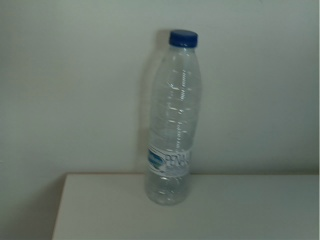botella plastico: (144, 27, 202, 210)
